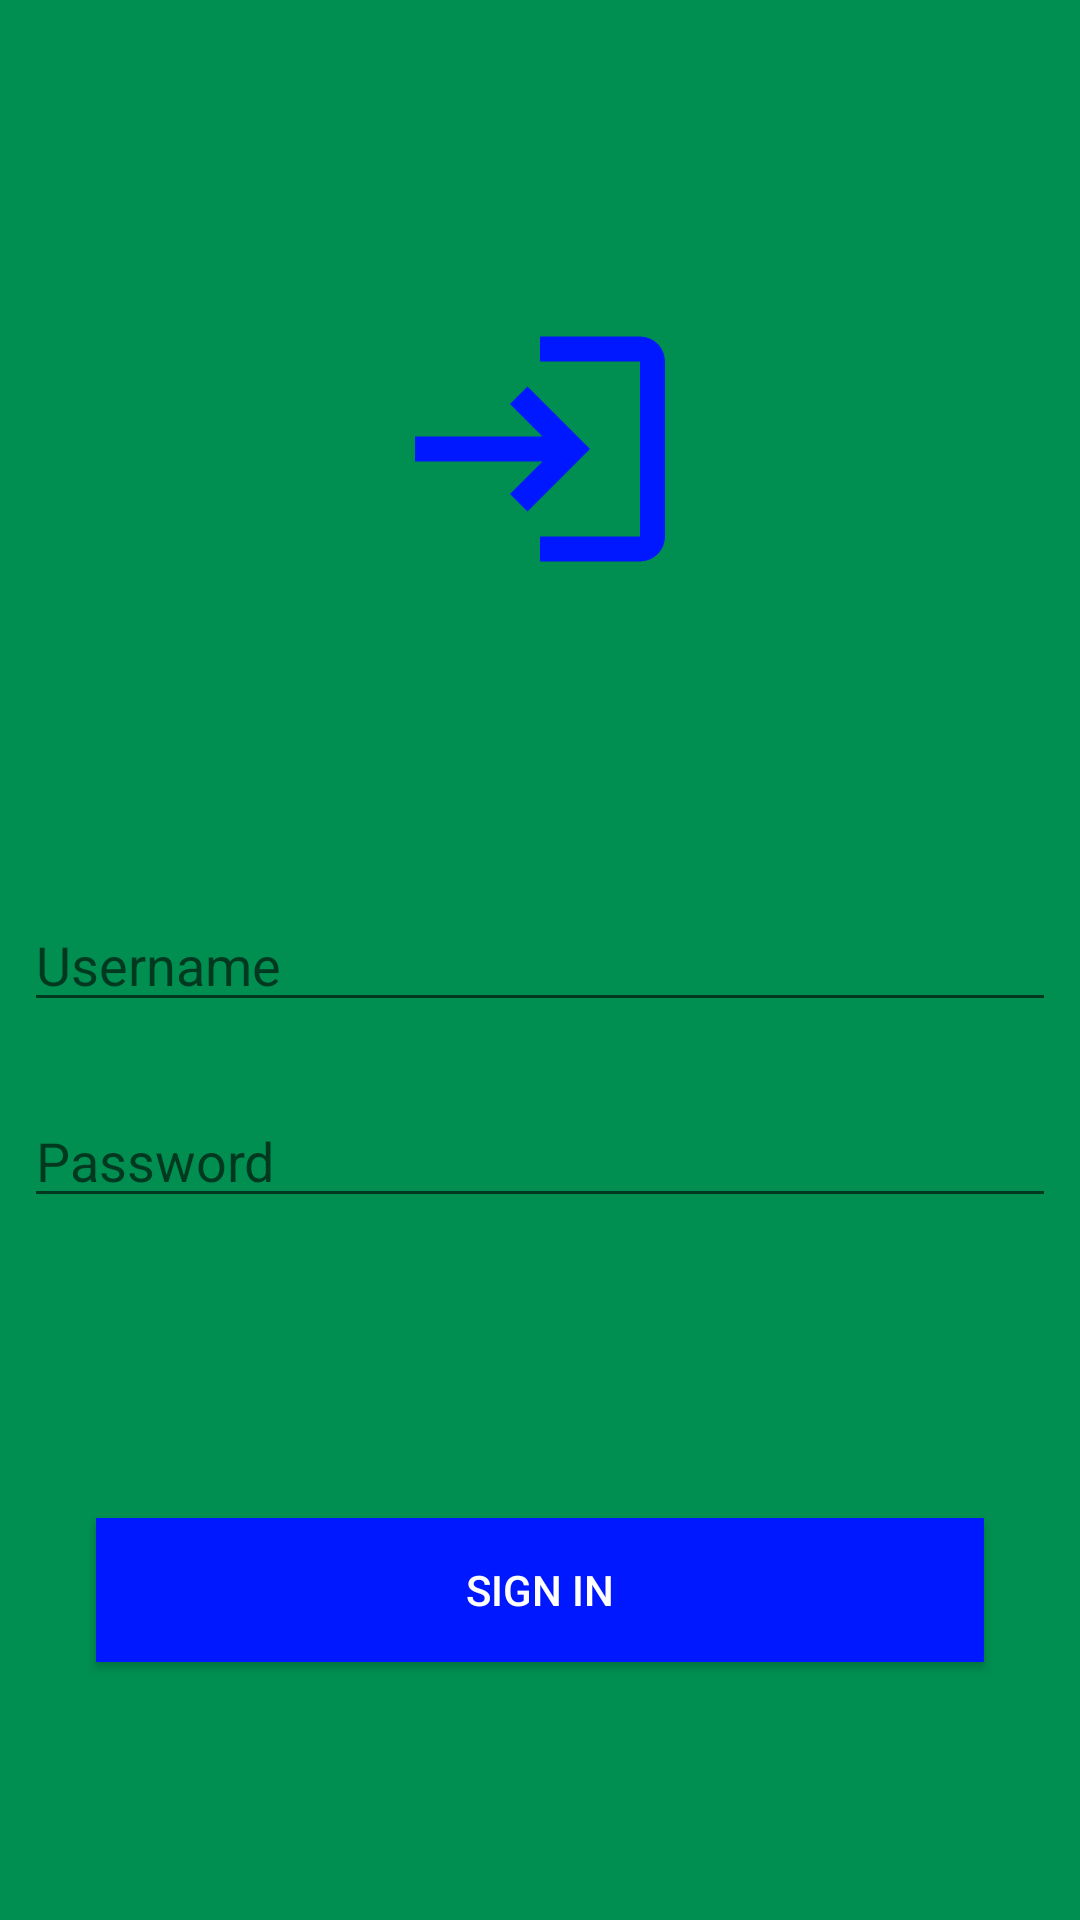

Icon bounding boxes for this 1080 × 1920 phone screenshot, format [left=x1, top=y1, right=x2, bottom=y2]:
login: [left=415, top=336, right=665, bottom=562]
